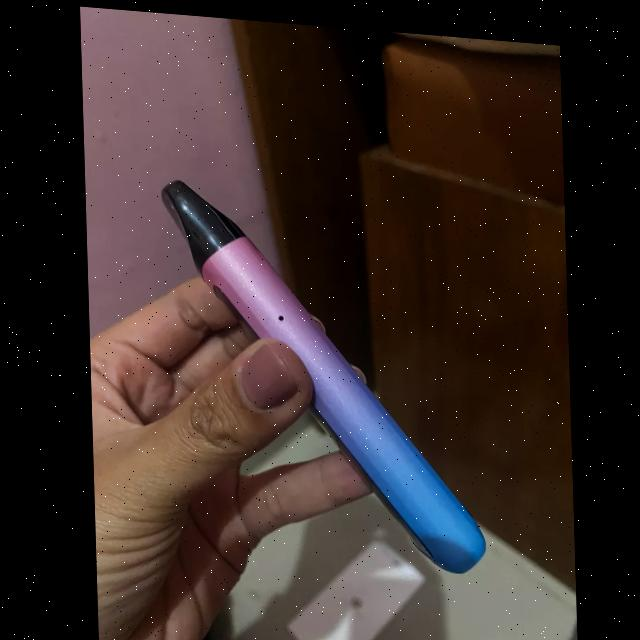vape: (159, 173, 485, 569)
